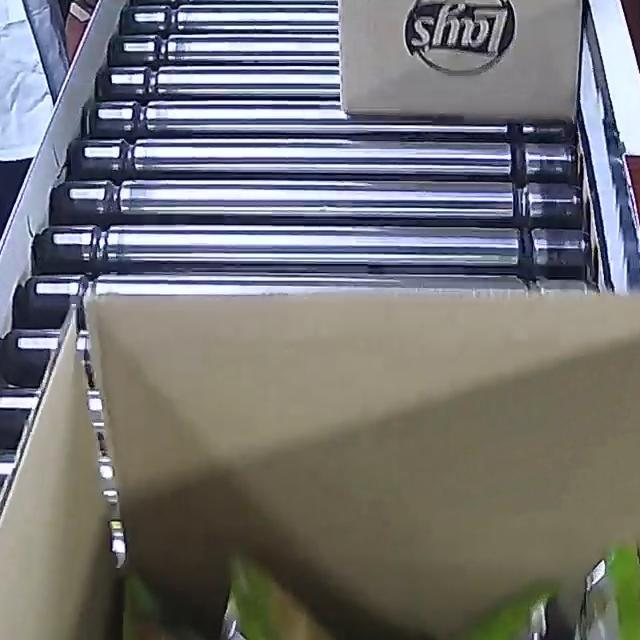yogurt: (110, 525, 640, 640)
